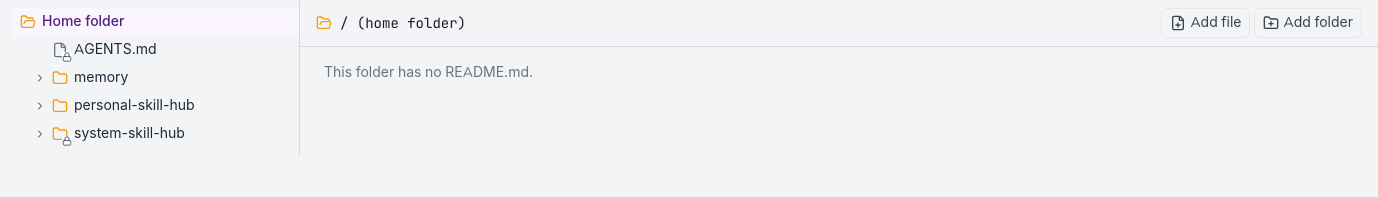
Test: HomeFolderBrowser › offers no write controls on a read-only folder or file
Click the button "system-skill-hub" at (156, 134), box [12,120,299,148]
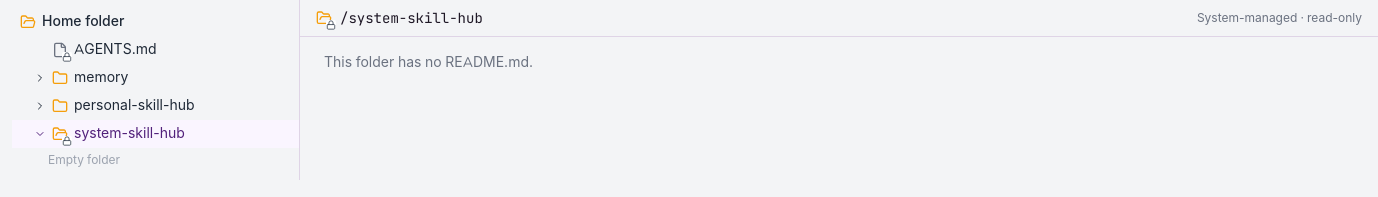
expect the text "System-managed · read-only" is shown: met, box [1197,10,1362,26]
expect the button "Add file" is gone: met
expect the button "Add folder" is gone: met
Click the button "AGENTS.md" at (156, 50), box [12,36,299,64]
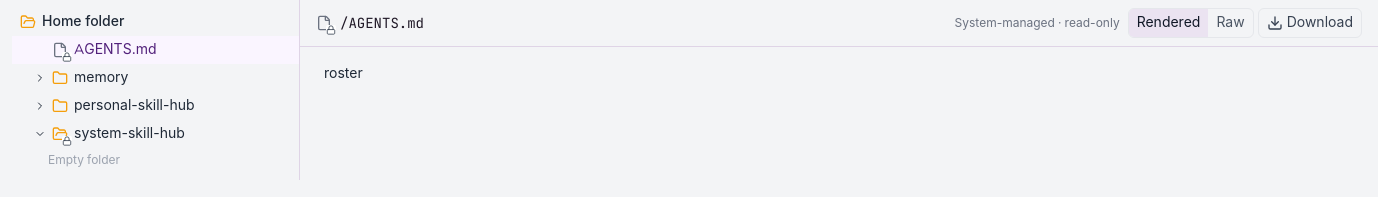
expect the icon with test id "lock-overlay" next to "/AGENTS.md" is shown: met, box [326,25,336,35]
expect the text "roster" is shown: met, box [324,64,363,83]
expect the button "Download" is shown: met, box [1258,8,1362,38]
